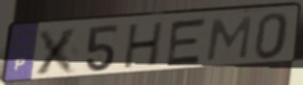0: (252, 10, 291, 61)
5: (84, 22, 121, 73)
E: (163, 17, 210, 68)
H: (121, 20, 167, 71)
M: (204, 14, 255, 63)
X: (32, 26, 83, 77)
